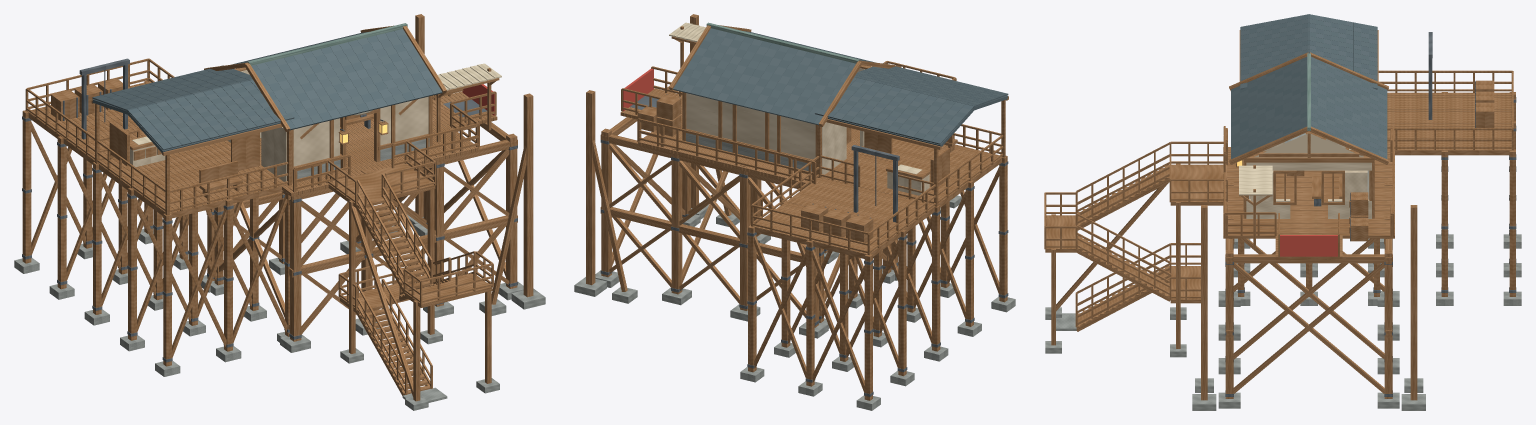
3 views of the same model, side by side, from view 1: azimuth 30°, elevation 25°; view 2: azimuth 150°, elevation 25°; view 3: azimuth 270°, elevation 25° (orthographic). The views are drawn at different scales.
Visible parts, largest first — view 1: Mooring full-height pylon, Arrival landing at 8m, Station high timber column, Longitudinal structural girder, Front plaster bay, Front plaster bay.001, Eight metre timber.010, Eight metre timber.011, Station high timber column.006, Eight metre timber, Eight metre timber.001, Eight metre timber.002 (+39 smaller); view 2: Rear plaster wall, Mooring full-height pylon.001, Longitudinal structural girder.002, Station high timber column.005, Eight metre timber.011, Eight metre timber.002, Eight metre timber.010, Eight metre timber.001, Eight metre timber, Station high timber column.003, Eight metre timber.014, Station high timber column.007 (+47 smaller); view 3: Arrival landing at 8m, Mooring full-height pylon.001, Mooring full-height pylon, Closed platform safety gate, Station high timber column.006, Station high timber column.007, Cross structural girder.002, Gable plaster infill.001, Cross bay diagonal.002, Cross bay reverse diagonal.002, Side clerestory.001, Eight metre timber.017 (+20 smaller).
Boxes of the visible parts, x1,y1,x2,y2 form: Mooring full-height pylon: (523, 93, 533, 297); Arrival landing at 8m: (327, 164, 435, 207); Station high timber column: (290, 187, 301, 341); Longitudinal structural girder: (289, 215, 517, 277); Front plaster bay: (293, 118, 339, 166); Front plaster bay.001: (380, 96, 428, 145); Eight metre timber.010: (57, 136, 66, 289); Eight metre timber.011: (22, 110, 31, 263); Station high timber column.006: (506, 133, 517, 288); Eight metre timber: (163, 213, 171, 366); Eight metre timber.001: (128, 187, 136, 340); Eight metre timber.002: (93, 162, 101, 314); Rear plaster wall: (686, 93, 815, 159); Mooring full-height pylon.001: (586, 90, 595, 285); Longitudinal structural girder.002: (600, 207, 819, 262); Station high timber column.005: (671, 145, 682, 294); Eight metre timber.011: (864, 254, 872, 400); Eight metre timber.002: (932, 205, 940, 351); Eight metre timber.010: (898, 229, 906, 376); Eight metre timber.001: (965, 180, 973, 326); Eight metre timber: (999, 155, 1007, 302); Station high timber column.003: (740, 162, 750, 310); Eight metre timber.014: (806, 240, 814, 386); Station high timber column.007: (601, 128, 611, 277); Arrival landing at 8m: (1170, 164, 1226, 205); Mooring full-height pylon.001: (1410, 205, 1417, 400); Mooring full-height pylon: (1201, 205, 1207, 400); Closed platform safety gate: (1280, 235, 1337, 256); Station high timber column.006: (1225, 250, 1233, 398); Station high timber column.007: (1384, 250, 1392, 398); Cross structural girder.002: (1225, 254, 1392, 263); Gable plaster infill.001: (1254, 133, 1363, 157); Cross bay diagonal.002: (1233, 263, 1384, 393); Cross bay reverse diagonal.002: (1233, 263, 1384, 393); Side clerestory.001: (1246, 162, 1371, 170); Eight metre timber.017: (1509, 149, 1515, 296).
Size of the model in its own units: 19.18 by 13.1 by 22.79.
Materials: 19 (14 with a texture image).
